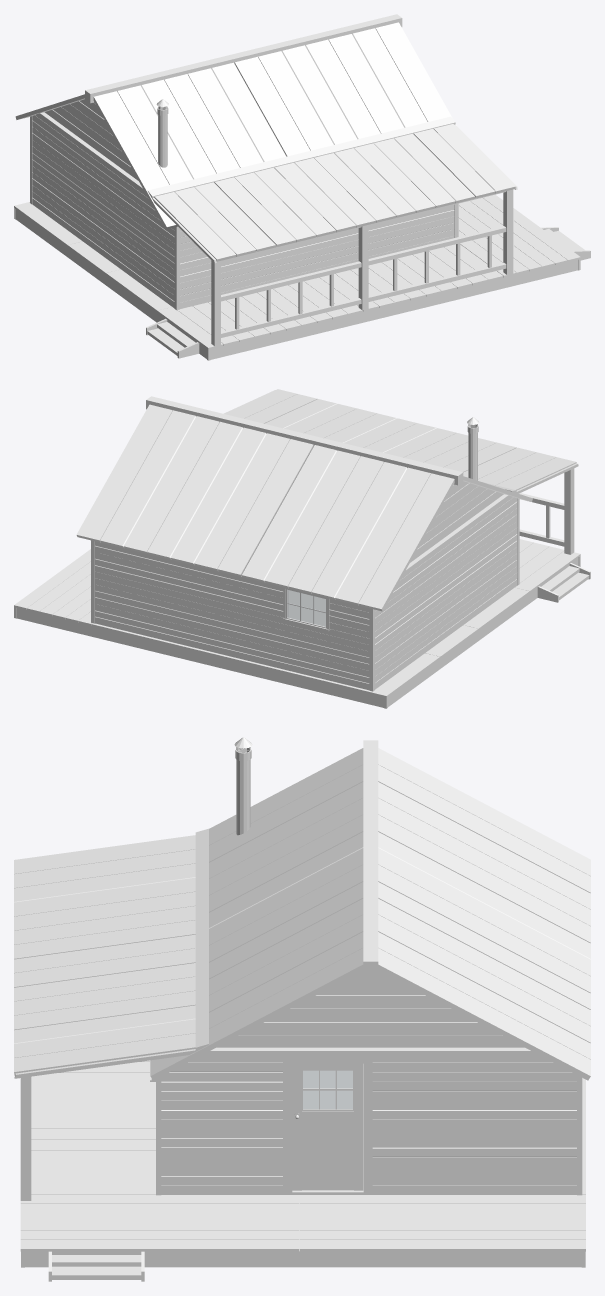
Rendered from Bld_Wooden_Cabin_02.glb.
3 renders of one model, top to bottom at view 1: azimuth 30°, elevation 25°; view 2: azimuth 150°, elevation 25°; view 3: azimuth 270°, elevation 25°, orthographic. The views are drawn at different scales.
Parts seen in each view (by area): view 1: Bld_Wooden_Cabin_02; view 2: Bld_Wooden_Cabin_02, (_ignore)_Bld_Wooden_Cabin_Windows_02; view 3: Bld_Wooden_Cabin_02, Bld_Wooden_Cabin_Door_02, (_ignore)_Bld_Wooden_Cabin_Door_Window_02.
Boxes of the visible parts, x1,y1,x2,y2 form: Bld_Wooden_Cabin_02: (14, 14, 590, 360); Bld_Wooden_Cabin_02: (14, 389, 590, 708); (_ignore)_Bld_Wooden_Cabin_Windows_02: (288, 590, 325, 626); Bld_Wooden_Cabin_02: (14, 737, 590, 1281); Bld_Wooden_Cabin_Door_02: (292, 1063, 363, 1190); (_ignore)_Bld_Wooden_Cabin_Door_Window_02: (303, 1071, 352, 1108).
Bounding box in the file's own units: 9.66 × 4.43 × 8.05.
2 materials, 1 textured.
